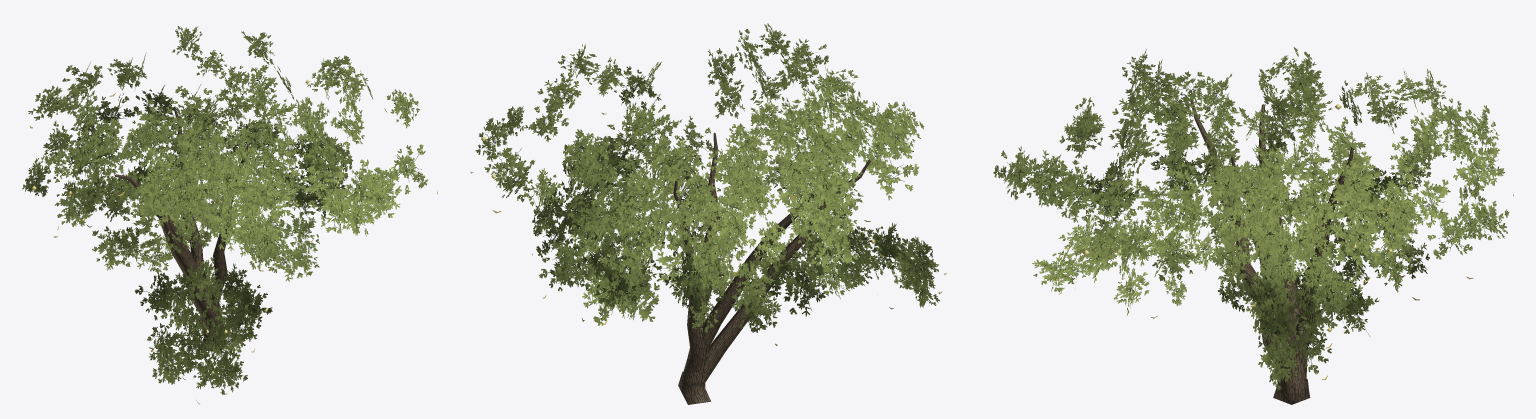
File: old-a.lod1.glb
3 renders of one model, left to right at view 1: azimuth 30°, elevation 25°; view 2: azimuth 150°, elevation 25°; view 3: azimuth 270°, elevation 25°, orthographic. The views are drawn at different scales.
Visible parts, largest first — view 1: foliage, bark; view 2: foliage, bark; view 3: foliage, bark.
Boxes of the visible parts, bbox=[...] form: foliage: bbox=[22, 26, 427, 394]; bark: bbox=[114, 109, 248, 351]; foliage: bbox=[475, 23, 939, 332]; bark: bbox=[673, 132, 870, 404]; foliage: bbox=[993, 47, 1509, 390]; bark: bbox=[1190, 100, 1353, 404].
Bounding box in the file's own units: 14.45 × 10 × 16.12.
4 materials, 2 textured.
